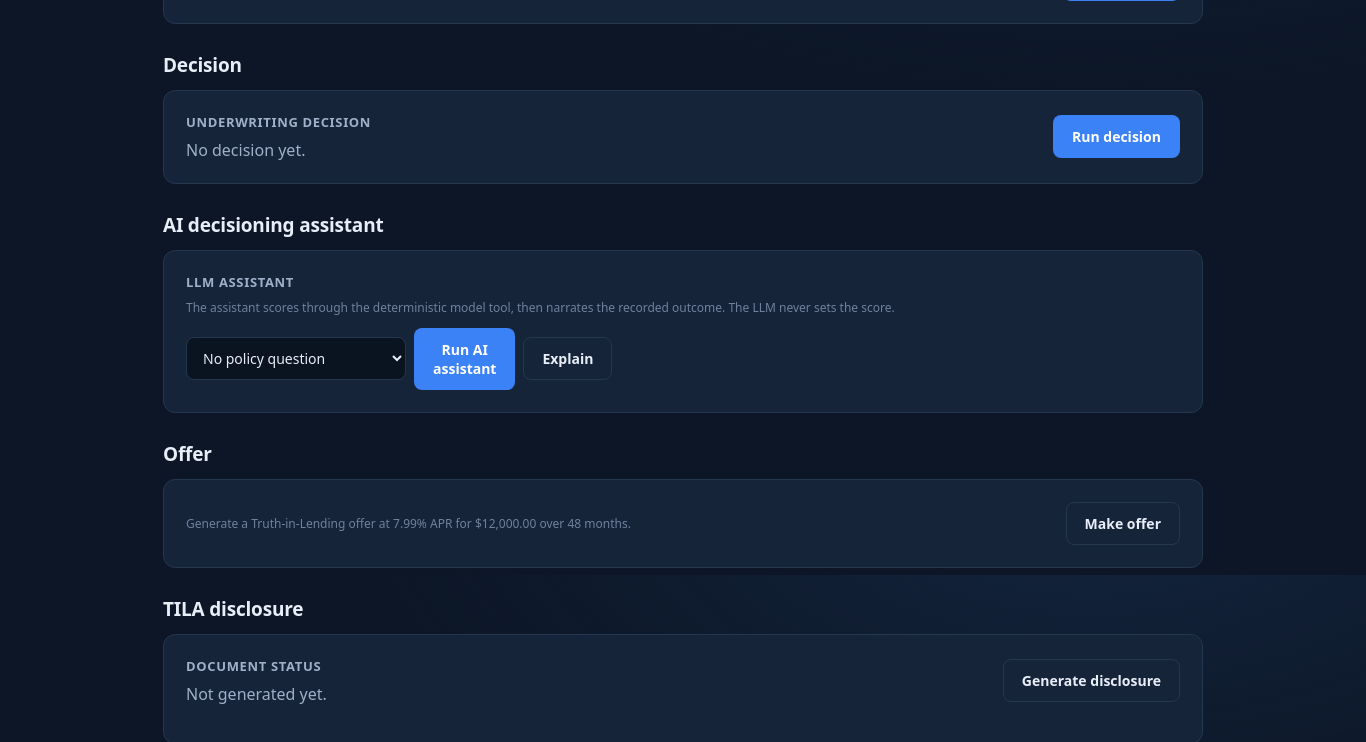
Test: underwriting detail — assistant panel › renders the trace run id and sends the selected policy_topic on Explain
(page scrolled)
Select "debt to income" in the dropdown titled "Policy topic for Explain" at point(296, 358), box [186,337,406,380]
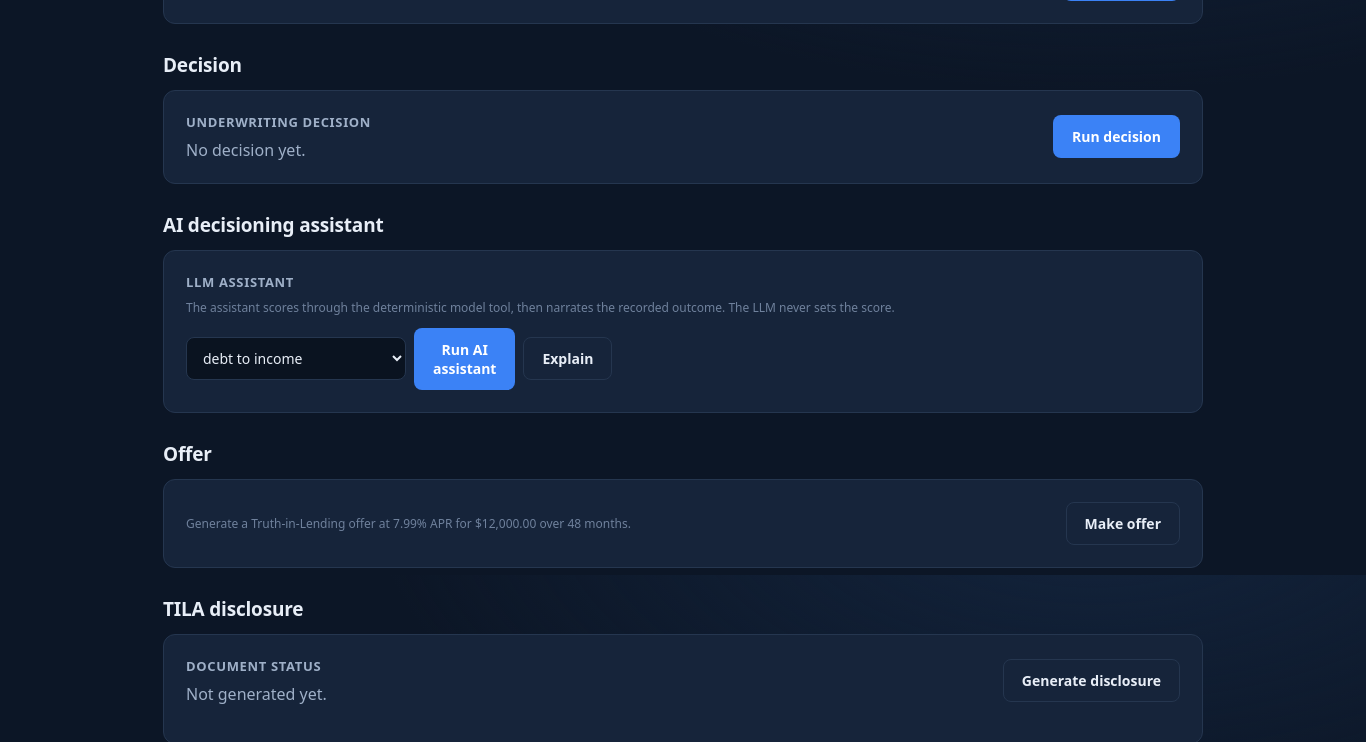
Click the button "Explain".
click(568, 358)  # box [523,337,612,380]
(page scrolled)
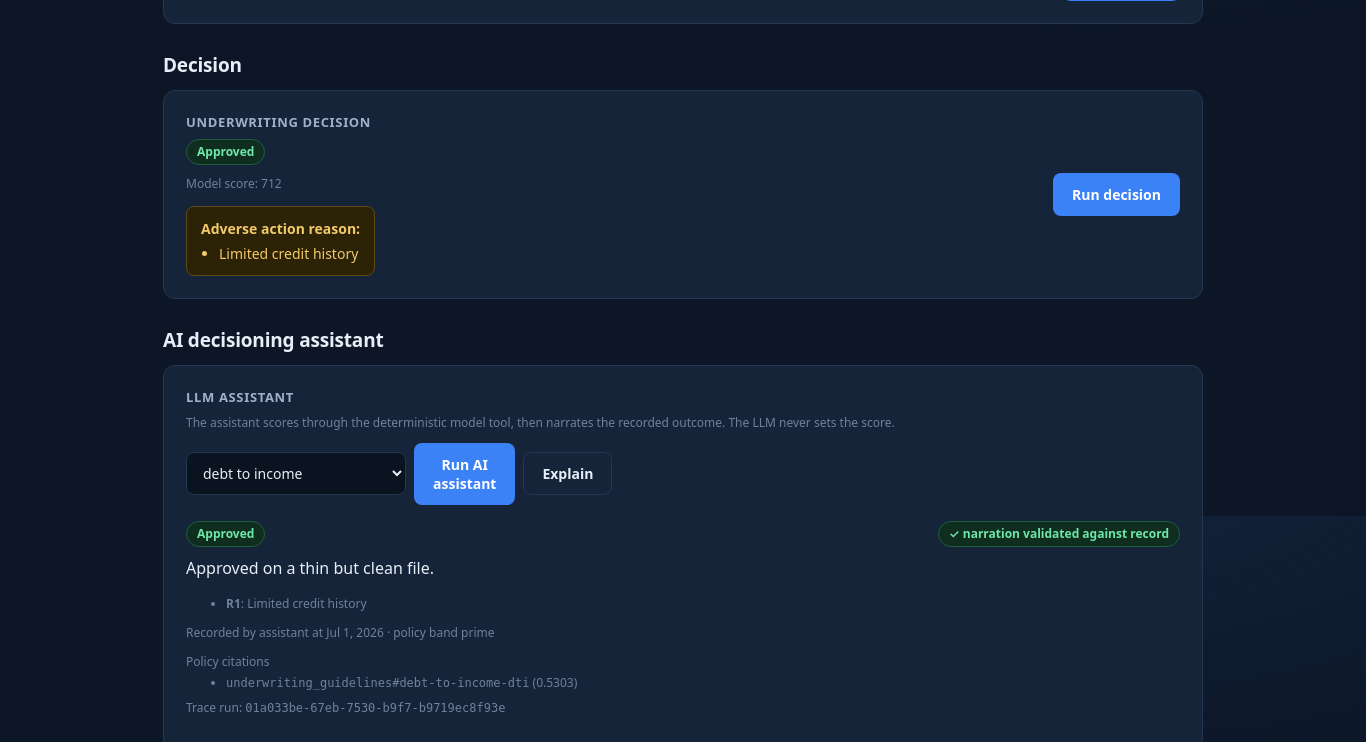
Now the text "01a033be-67eb-7530-b9f7-b9719ec8f93e" is shown, box [245,700,505,714]
Now the text "underwriting_guidelines#debt-to-income-dti" is shown, box [226,676,529,690]
